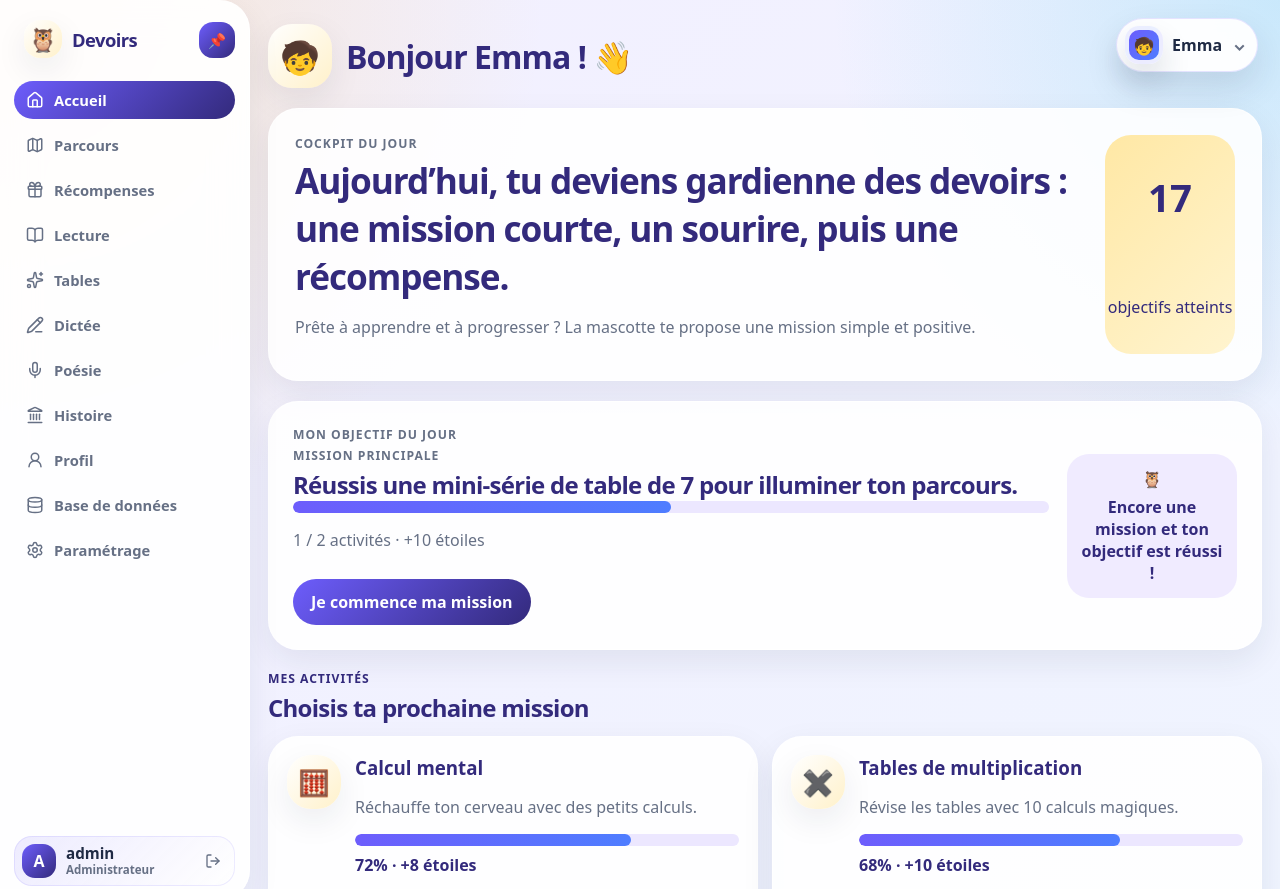
Lots 5-11 complete child interface › renders gamified path worlds, global progress gauges and dynamic rewards
expect the heading "Bonjour Emma ! 👋" is shown: met, box left=346, top=34, right=632, bottom=78
Click the button "Parcours" at (124, 145), box left=14, top=126, right=235, bottom=164
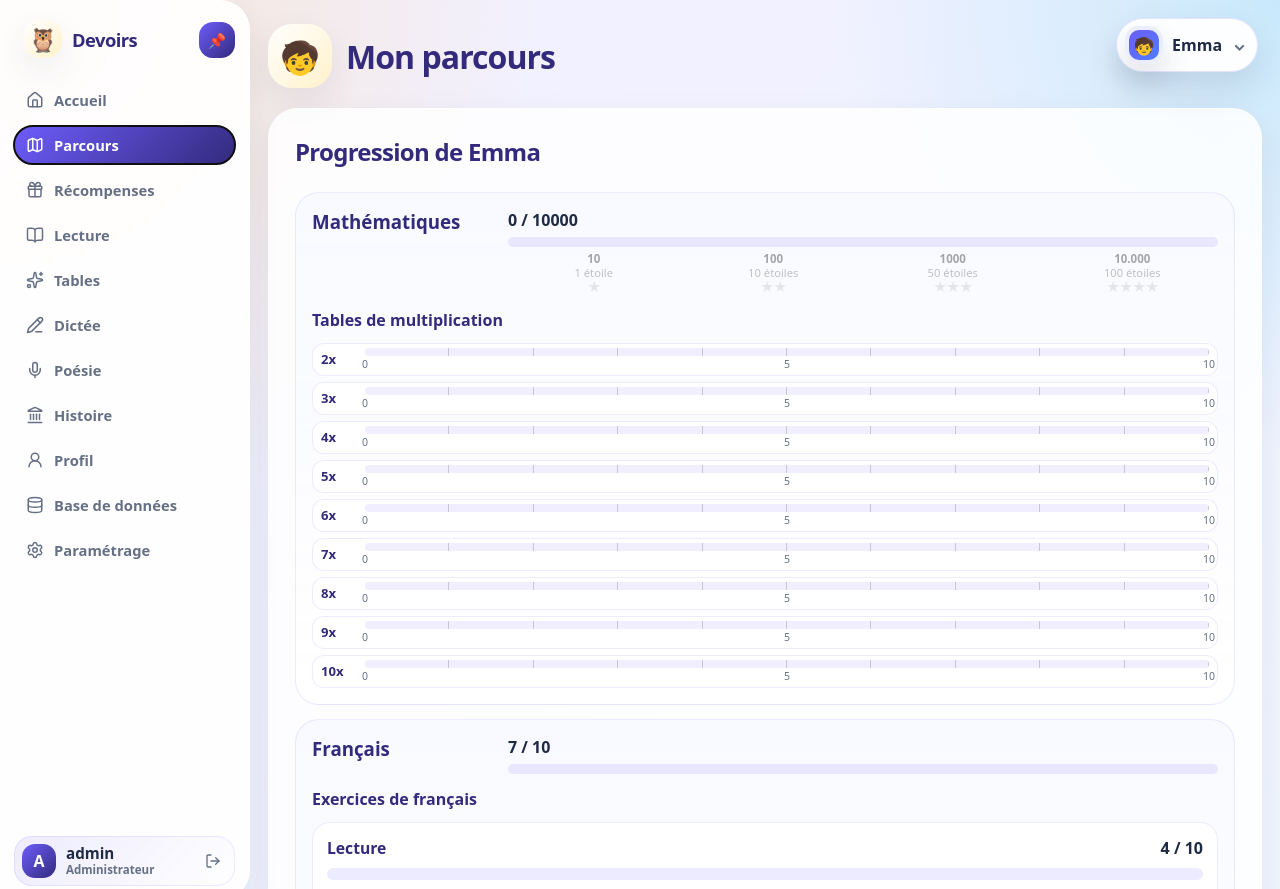
expect the heading "Mon parcours" is shown: met, box left=346, top=34, right=555, bottom=78
expect the heading "Progression de Emma" is shown: met, box left=295, top=135, right=540, bottom=168
expect the element "Mathématiques" is shown: met, box left=295, top=192, right=1235, bottom=705
Click the button "Récompenses" at (124, 190), box left=14, top=171, right=235, bottom=209
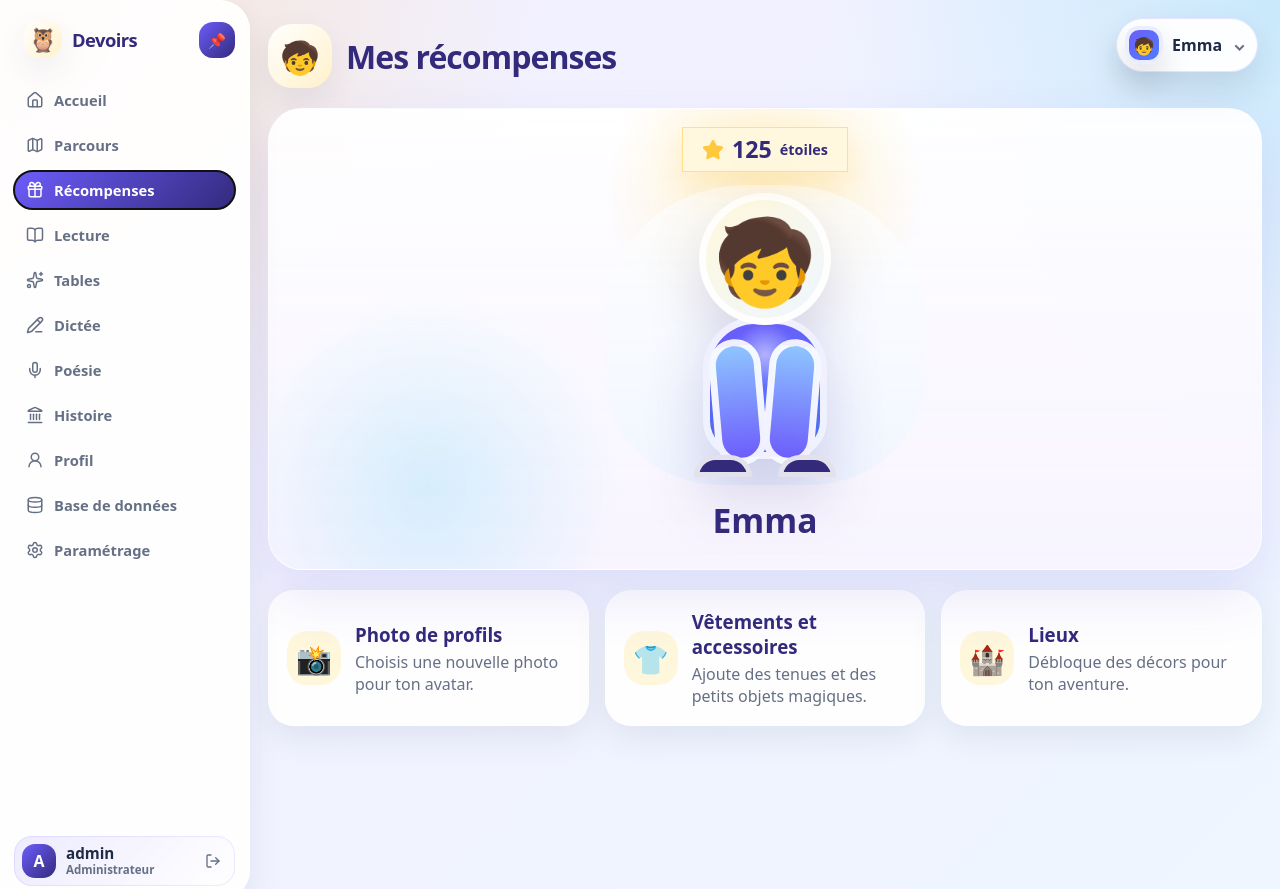
expect the heading "Mes récompenses" is shown: met, box left=346, top=34, right=616, bottom=78
expect the element named "125 étoiles disponibles" is shown: met, box left=682, top=127, right=848, bottom=172
expect the element named "avatar et étoiles" is shown: met, box left=268, top=108, right=1262, bottom=570
